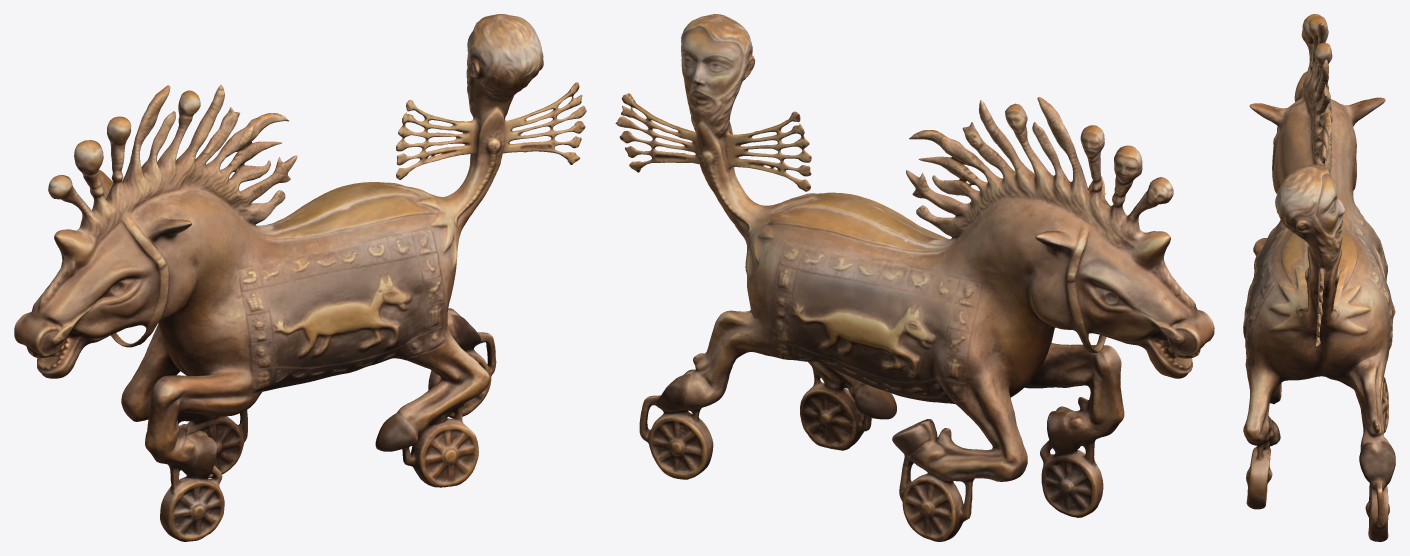
File: parekh-horse.glb
The picture shows the model from 3 angles, left to right: view 1: azimuth 30°, elevation 25°; view 2: azimuth 150°, elevation 25°; view 3: azimuth 270°, elevation 25°; orthographic projection. The views are drawn at different scales.
Visible parts, largest first — view 1: Mesh; view 2: Mesh; view 3: Mesh.
Part boxes in pixels (<box>): Mesh: <box>14,14,586,541</box>; Mesh: <box>615,14,1214,541</box>; Mesh: <box>1243,14,1395,541</box>.
Size of the model in its own units: 0.6976 by 0.5 by 0.1829.
Materials: 1 (1 with a texture image).
